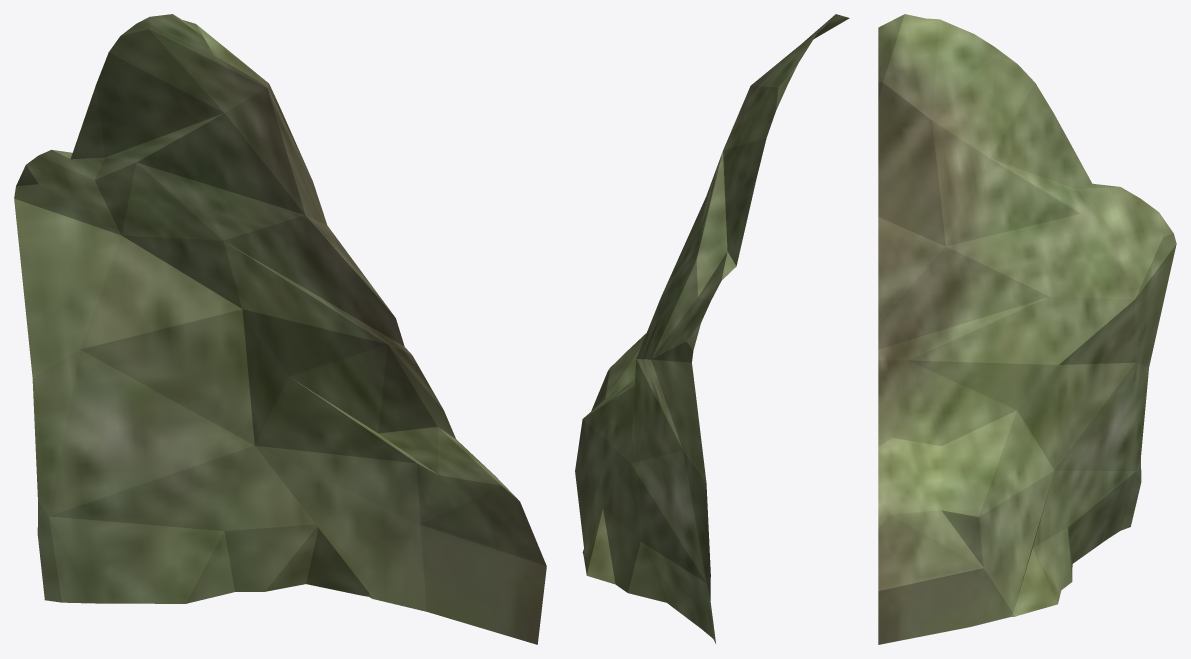
3 renders of one model, left to right at view 1: azimuth 30°, elevation 25°; view 2: azimuth 150°, elevation 25°; view 3: azimuth 270°, elevation 25°, orthographic. The views are drawn at different scales.
Bounding box in the file's own units: 1.98 × 3.91 × 2.06.
Materials: 1 (1 with a texture image).
